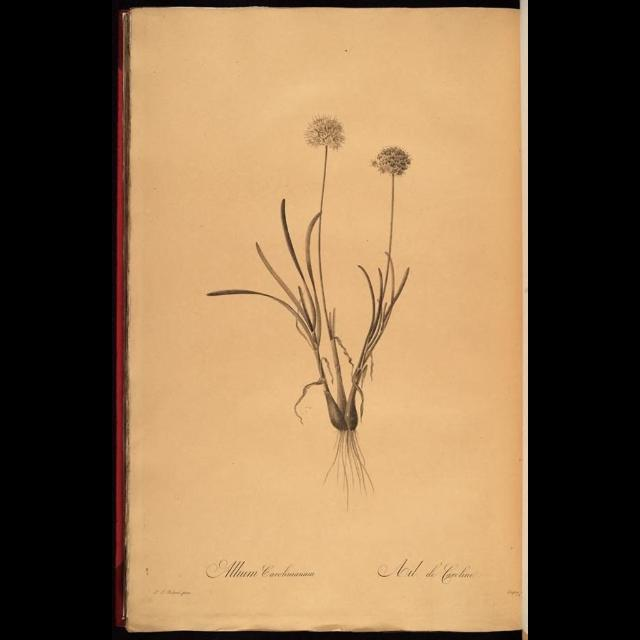Flower: (300, 102, 350, 148), (368, 146, 412, 174)
